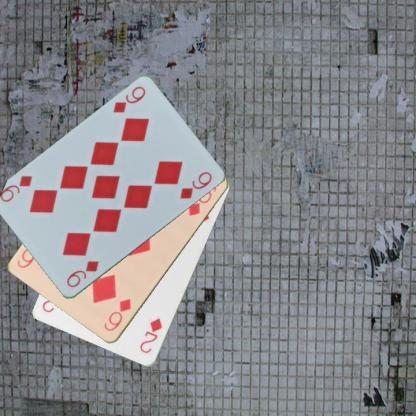2d: (136, 315, 164, 355)
6d: (101, 296, 133, 333)
9d: (63, 258, 100, 290), (110, 84, 146, 115)
